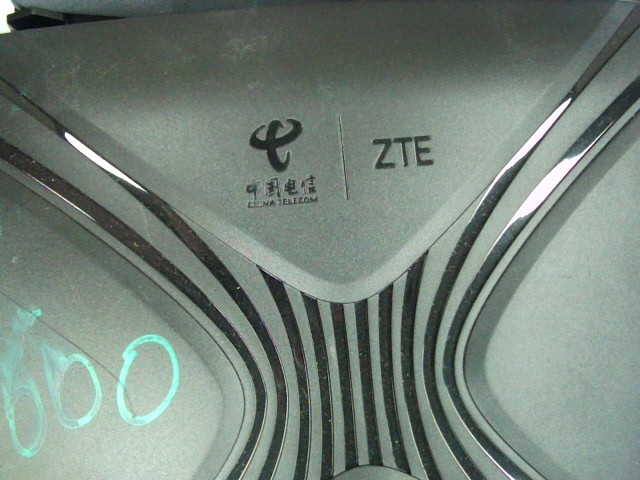AX_ZTEChinaTelecom: (222, 108, 462, 218)
